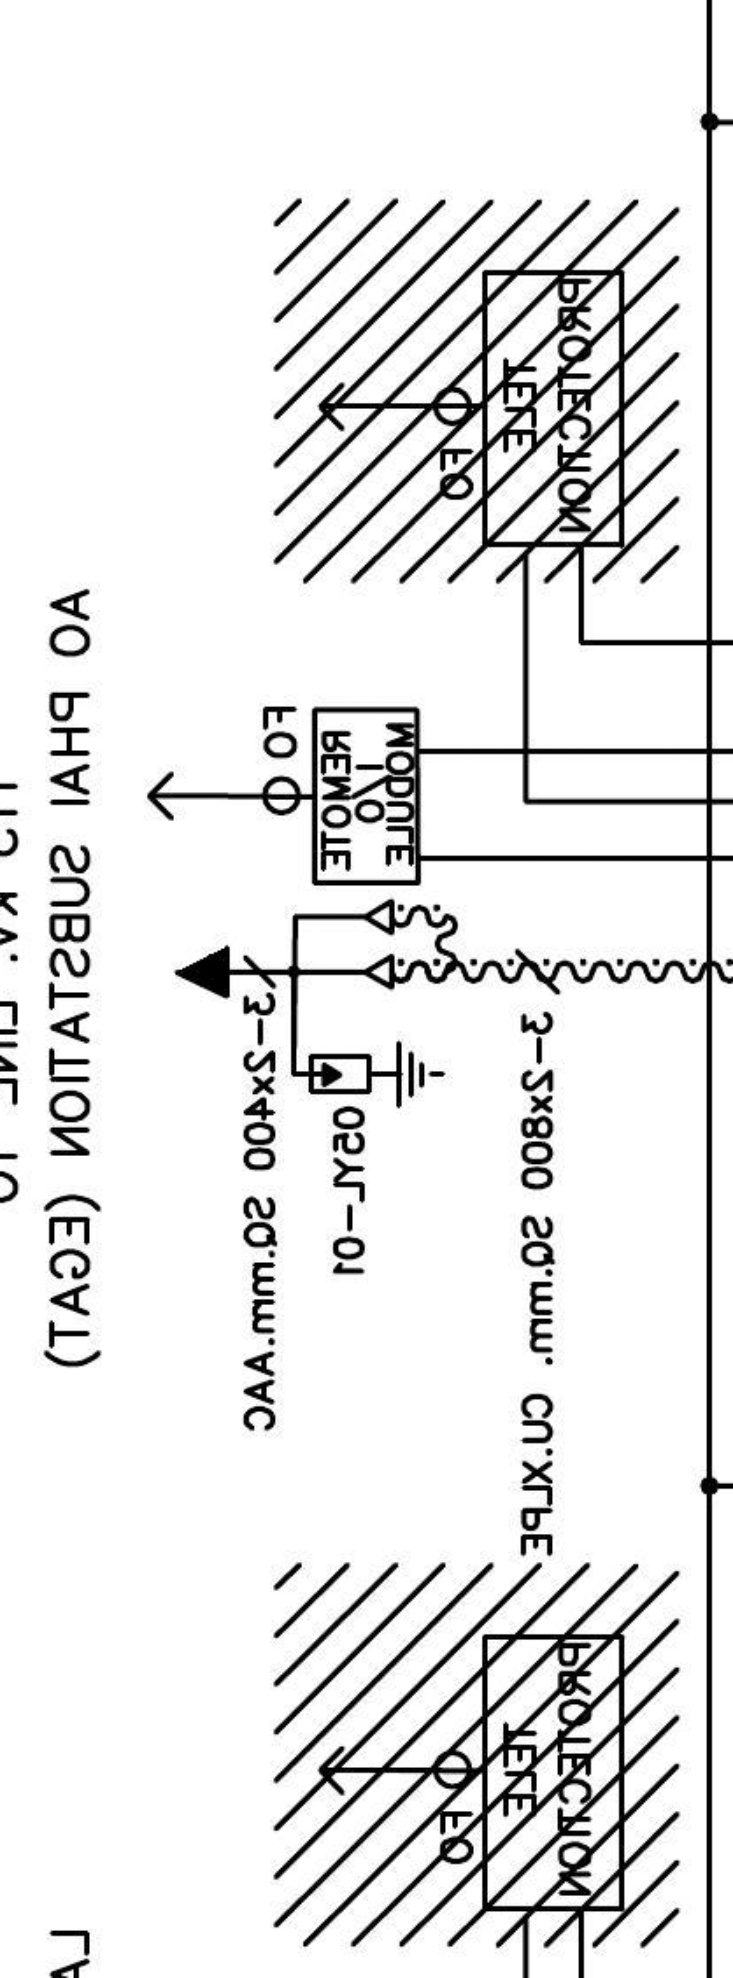115_la: (307, 1039, 448, 1109)
remote_io_module: (309, 704, 424, 889)
tele_protection: (478, 265, 631, 551), (478, 1630, 630, 1916)
terminator_double: (290, 897, 397, 992)
